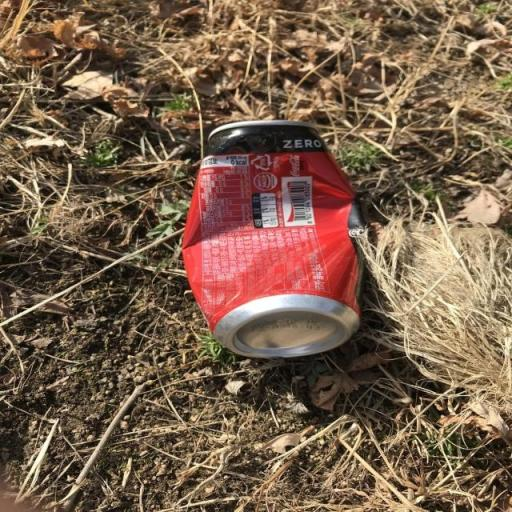metal: (150, 110, 404, 398)
